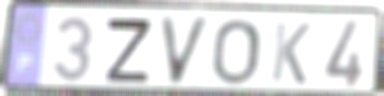3: (51, 14, 95, 86)
4: (322, 17, 366, 91)
K: (269, 19, 313, 87)
O: (211, 17, 263, 87)
V: (157, 15, 212, 88)
Z: (104, 16, 154, 85)
